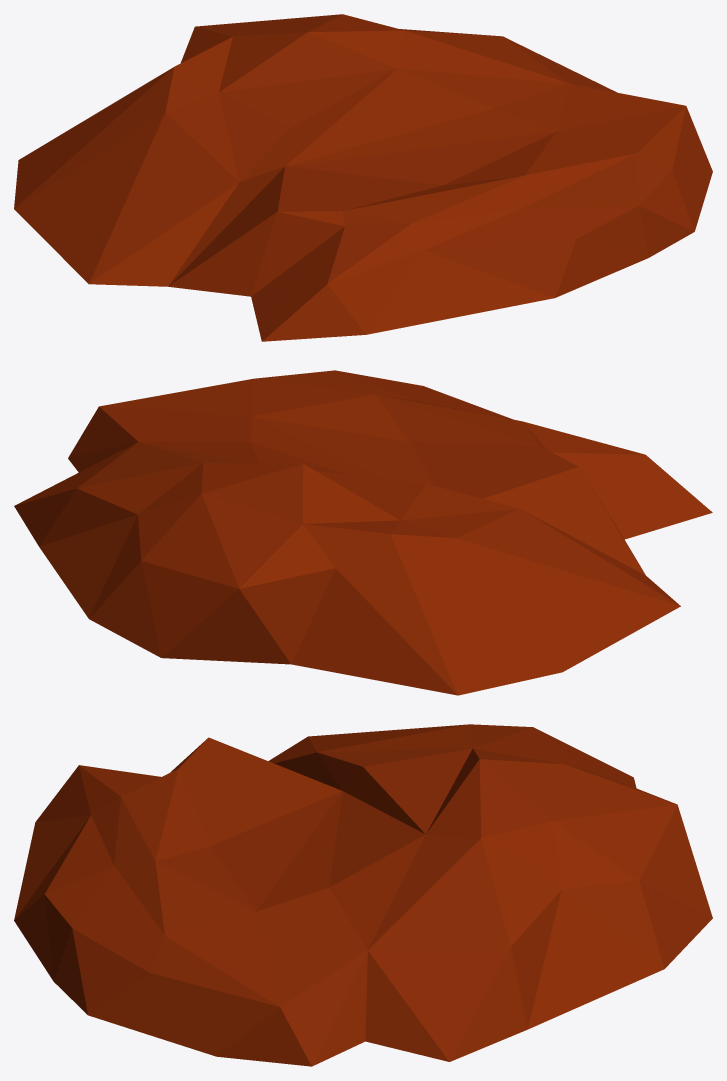
Rendered from Dirt_01.glb.
3 views of the same model, one above another, from view 1: azimuth 30°, elevation 25°; view 2: azimuth 150°, elevation 25°; view 3: azimuth 270°, elevation 25° (orthographic). The views are drawn at different scales.
Parts seen in each view (by area): view 1: Dirt_01; view 2: Dirt_01; view 3: Dirt_01.
Part boxes in pixels (bbox=[...]): Dirt_01: bbox=[14, 14, 712, 341]; Dirt_01: bbox=[14, 370, 712, 695]; Dirt_01: bbox=[14, 724, 712, 1066].
Size of what is drawn, in the model's own units: 3.13 by 0.6175 by 2.8.
Materials: 1 (1 with a texture image).
